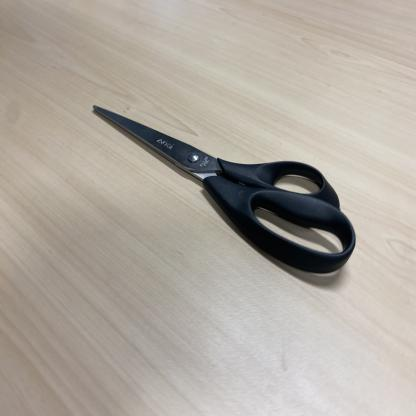scissors: (92, 102, 360, 276)
